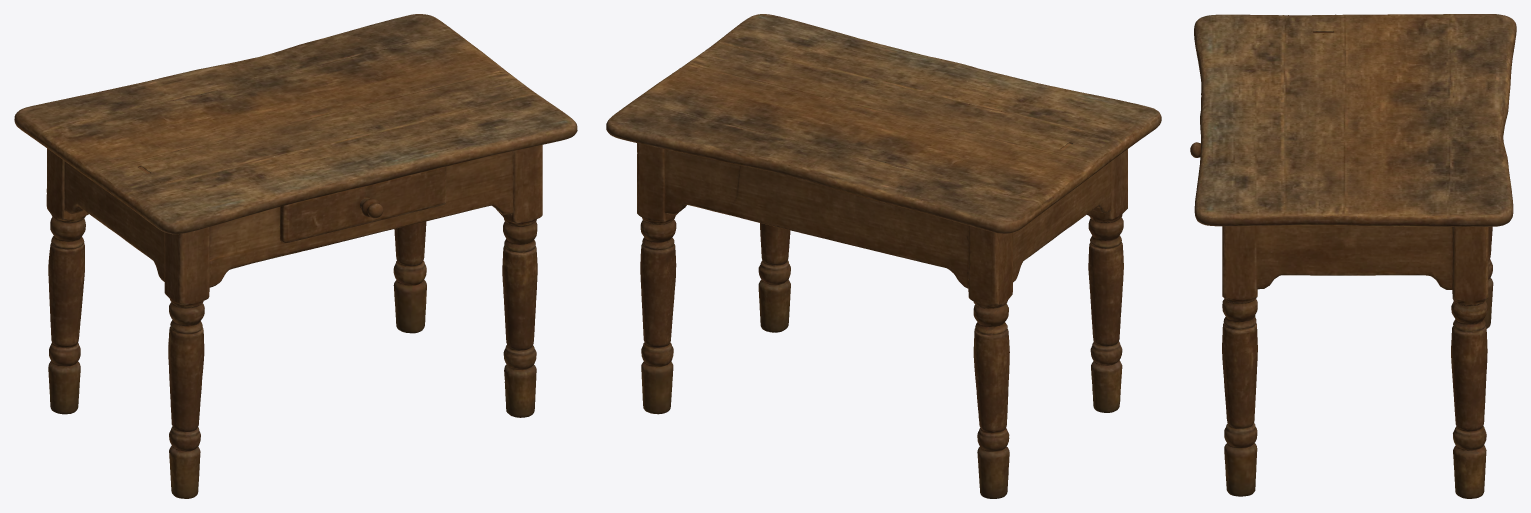
File: table.glb
The picture shows the model from 3 angles, left to right: view 1: azimuth 30°, elevation 25°; view 2: azimuth 150°, elevation 25°; view 3: azimuth 270°, elevation 25°; orthographic projection.
Size of the model in its own units: 1 by 0.6738 by 0.6721.
1 material, 1 textured.
